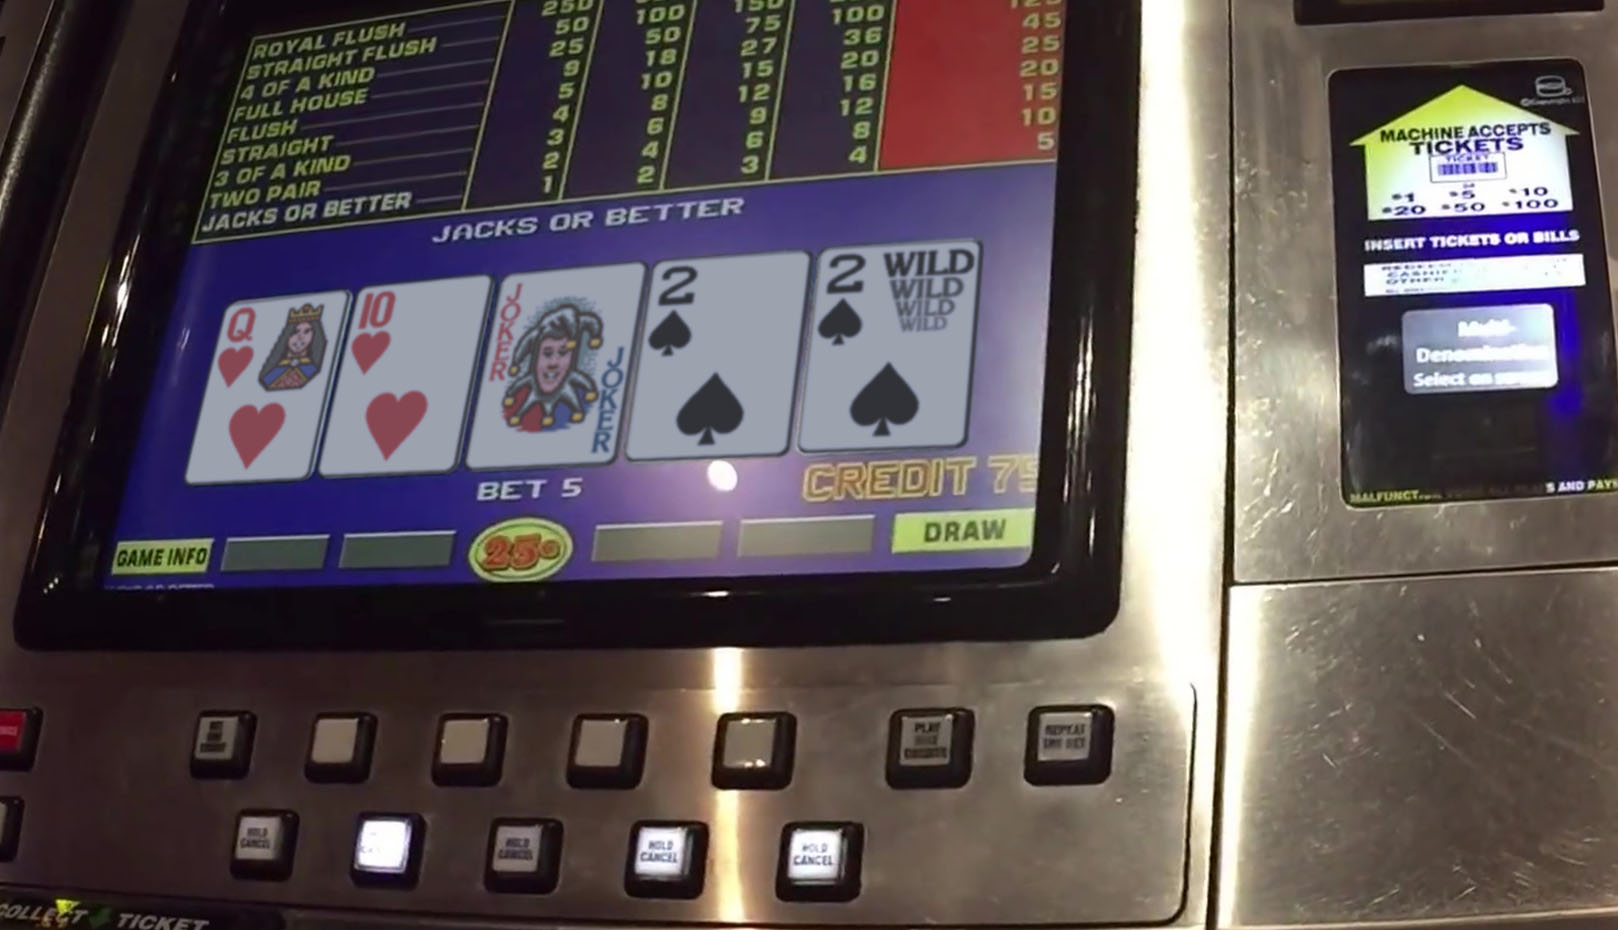HQ: (214, 296, 334, 477)
HT: (344, 280, 477, 471)
S2: (645, 256, 792, 460)
S2W: (821, 248, 965, 444)
joker: (485, 268, 635, 464)
